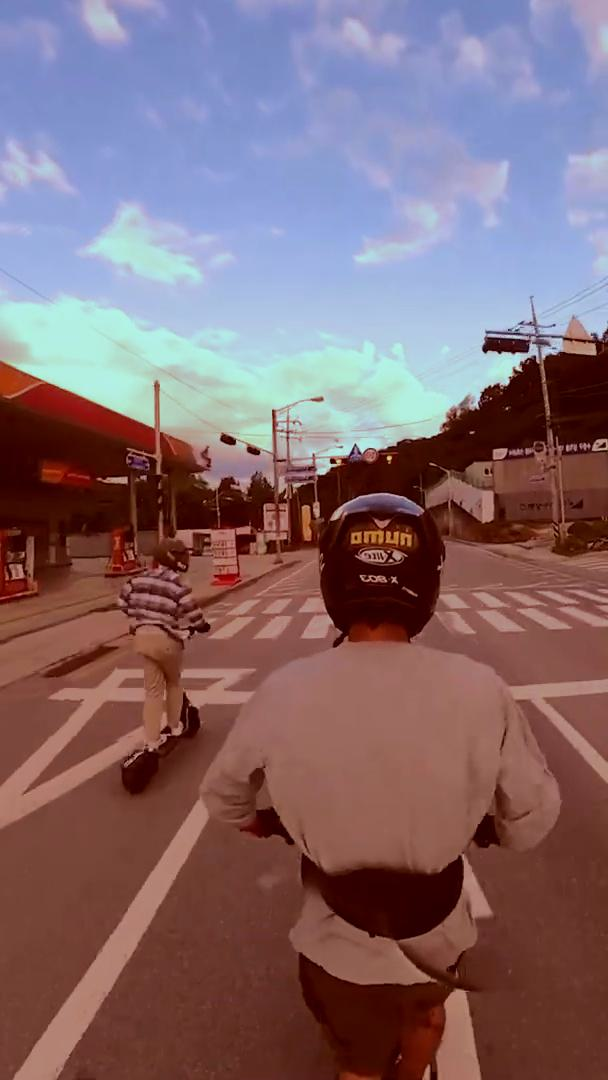helmet: (197, 489, 565, 1080), (117, 532, 211, 794)
